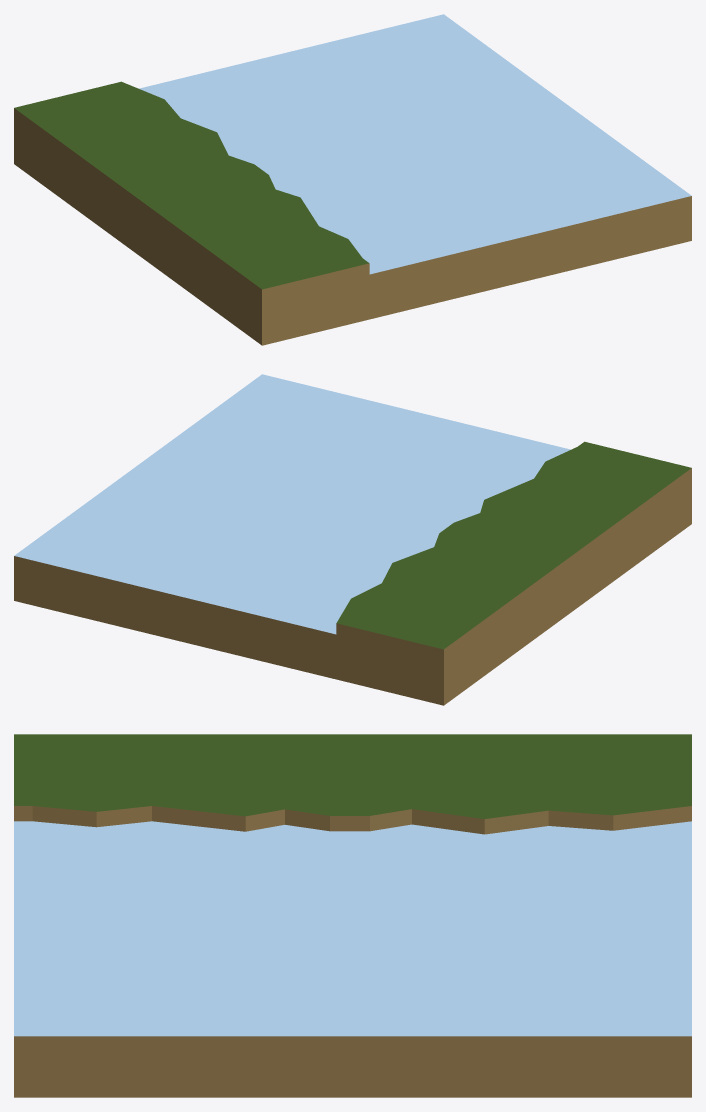
The model's file is Terrain_Tile_Grass_Dirt_Water_Bank_03.fbx.
The picture shows the model from 3 angles, top to bottom: view 1: azimuth 30°, elevation 25°; view 2: azimuth 150°, elevation 25°; view 3: azimuth 270°, elevation 25°; orthographic projection. The views are drawn at different scales.
Visible parts, largest first — view 1: Terrain_Tile_Grass_Dirt_Water_Bank_03; view 2: Terrain_Tile_Grass_Dirt_Water_Bank_03; view 3: Terrain_Tile_Grass_Dirt_Water_Bank_03.
Boxes of the visible parts, <box> form: Terrain_Tile_Grass_Dirt_Water_Bank_03: <box>14,14,691,345</box>; Terrain_Tile_Grass_Dirt_Water_Bank_03: <box>14,374,691,705</box>; Terrain_Tile_Grass_Dirt_Water_Bank_03: <box>14,734,691,1097</box>.
Bounding box in the file's own units: 126 × 15.75 × 126.
